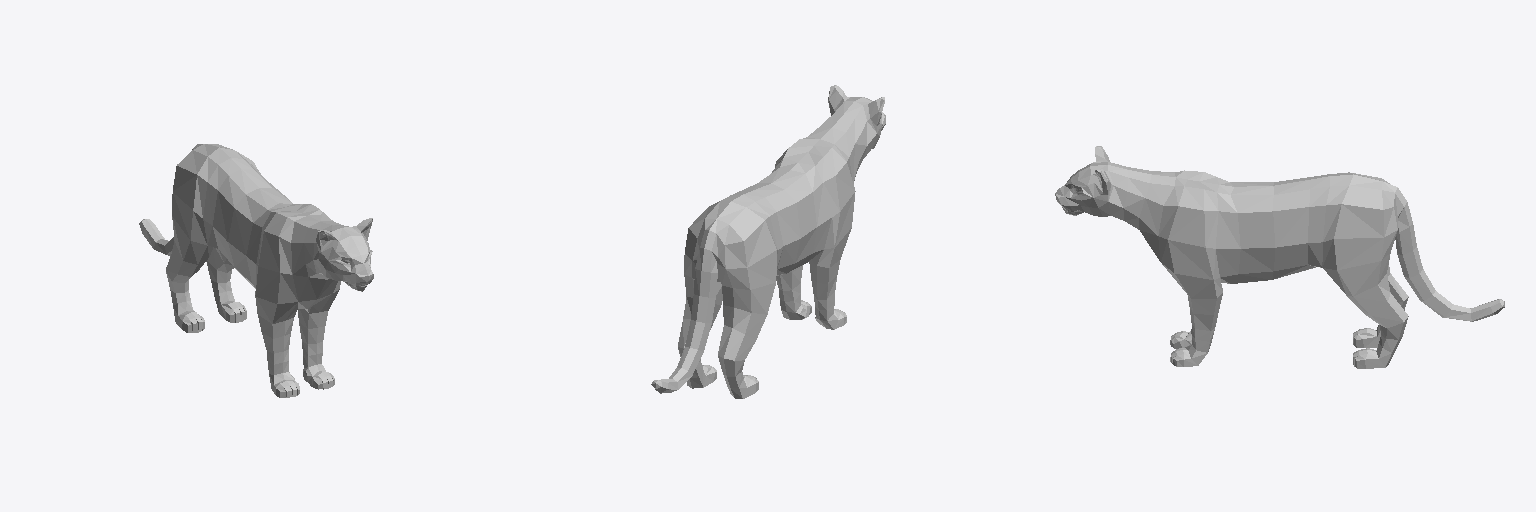
Rendered from pumita.obj.
3 renders of one model, left to right at view 1: azimuth 30°, elevation 25°; view 2: azimuth 150°, elevation 25°; view 3: azimuth 270°, elevation 25°, orthographic.
Parts seen in each view (by area): view 1: MountainPuma.001; view 2: MountainPuma.001; view 3: MountainPuma.001.
Boxes of the visible parts, x1,y1,x2,y2 form: MountainPuma.001: [139, 144, 373, 397]; MountainPuma.001: [651, 85, 885, 398]; MountainPuma.001: [1055, 146, 1504, 368].
Bounding box in the file's own units: 27.49 × 69.72 × 145.